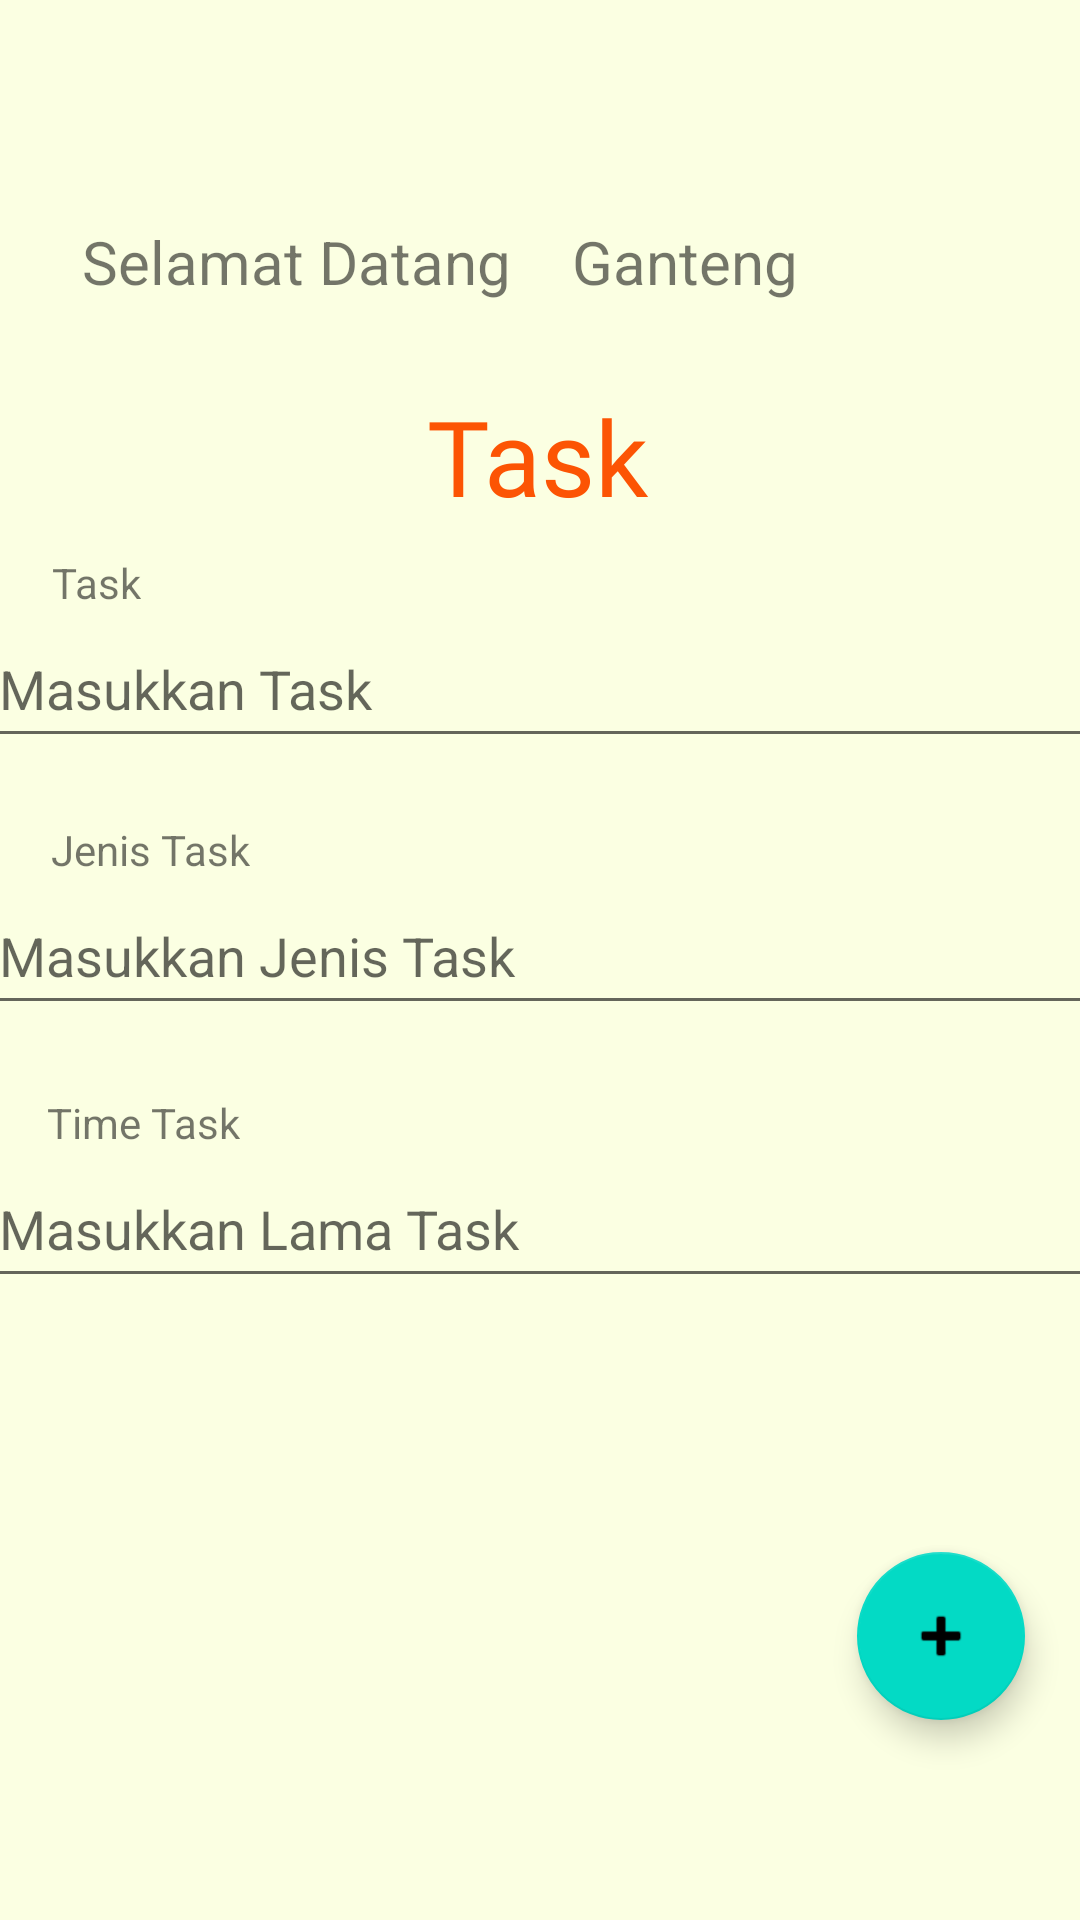

Icons on this 1080w x 1920h Android screen, each with the point to tap as point (x, y):
add: point (941, 1636)
